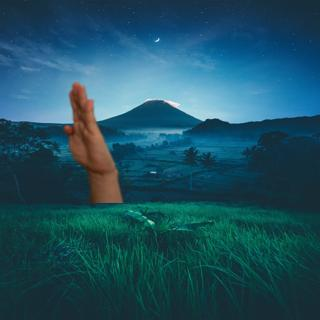RIGHT: (57, 79, 117, 179)
